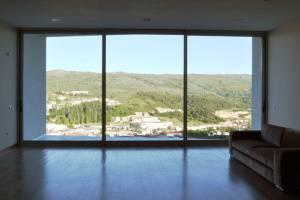window: (43, 35, 254, 139)
